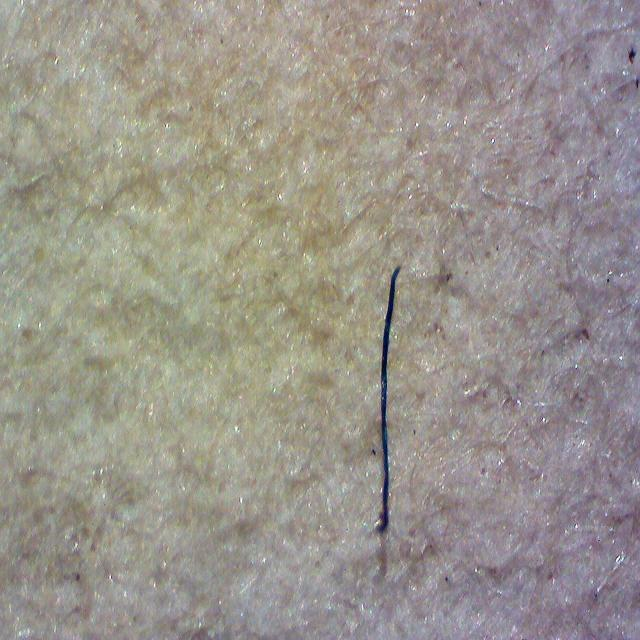microplastic: (376, 265, 402, 535)
